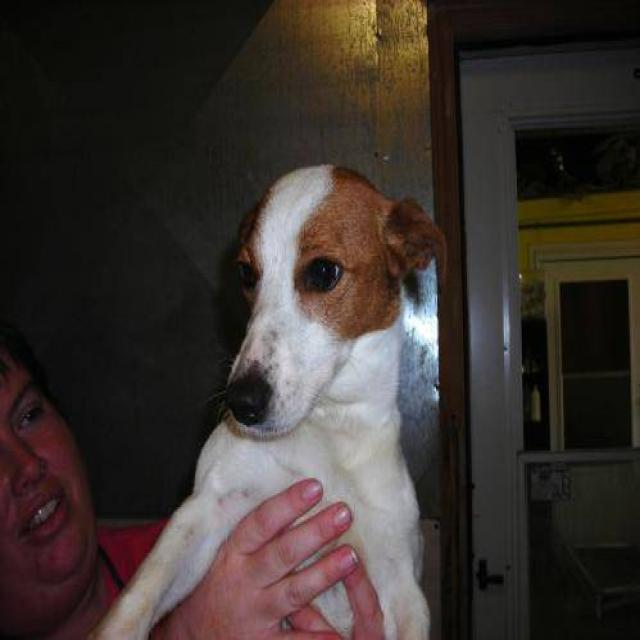relax: (224, 125, 453, 467)
